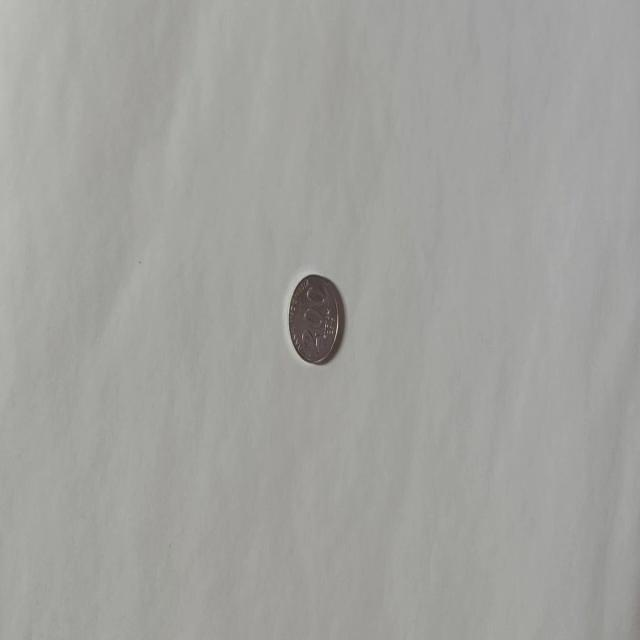dua ratus rupiah: (286, 272, 340, 364)
